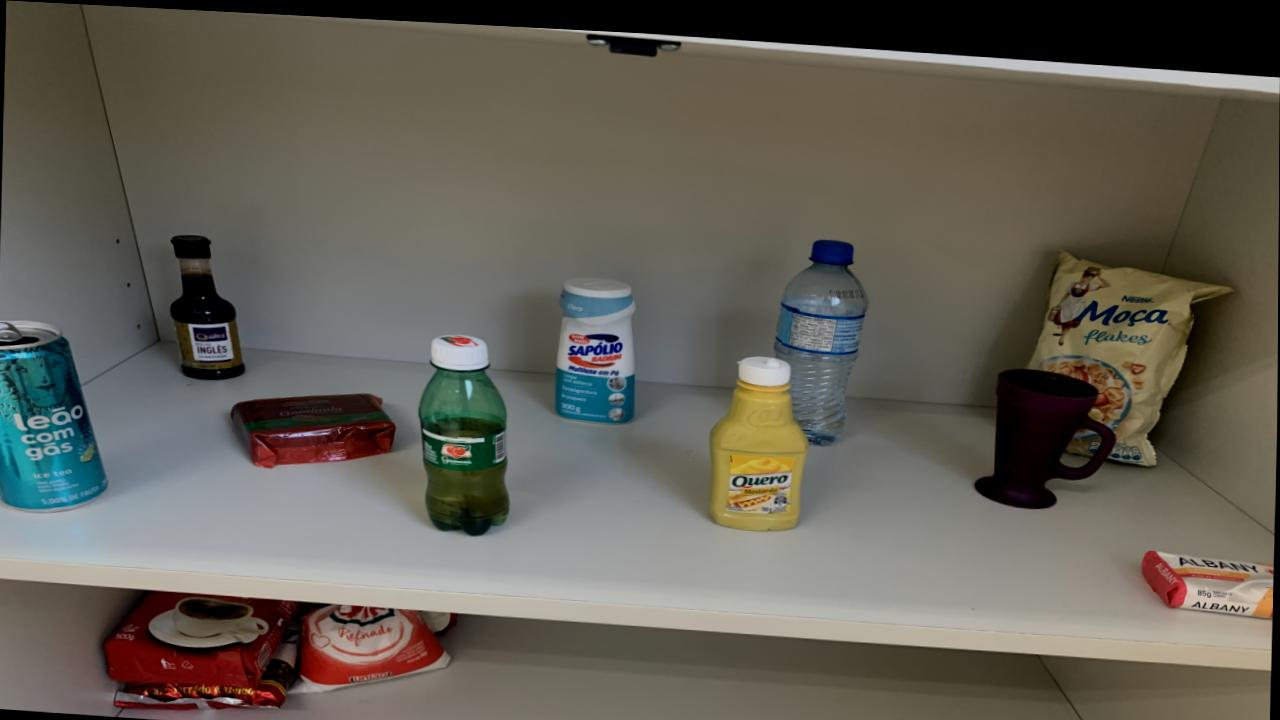Cleaner-Cleanup_Items: (555, 272, 636, 418)
English_Sauce-Pantry_Items: (171, 234, 246, 378)
Flakes-Snacks: (1029, 240, 1231, 454)
Guarana-Drinks: (420, 330, 510, 531)
Guava-Snacks: (232, 389, 397, 464)
Mustard-Pantry_Items: (710, 348, 809, 523)
Soap-Cleanup_Items: (1142, 538, 1275, 605)
Tea-Drinks: (0, 322, 108, 511)
Water_Bottle-Drinks: (774, 230, 868, 436)
